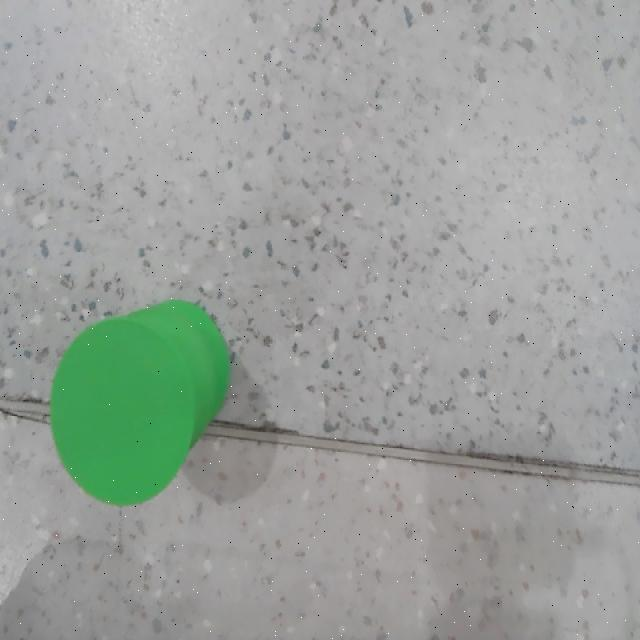g: (51, 318, 194, 506)
